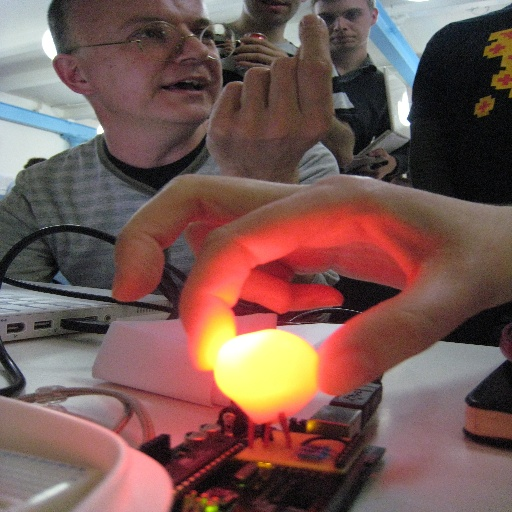hand: (106, 169, 511, 398), (203, 11, 335, 166), (230, 36, 292, 71), (366, 149, 399, 178)
